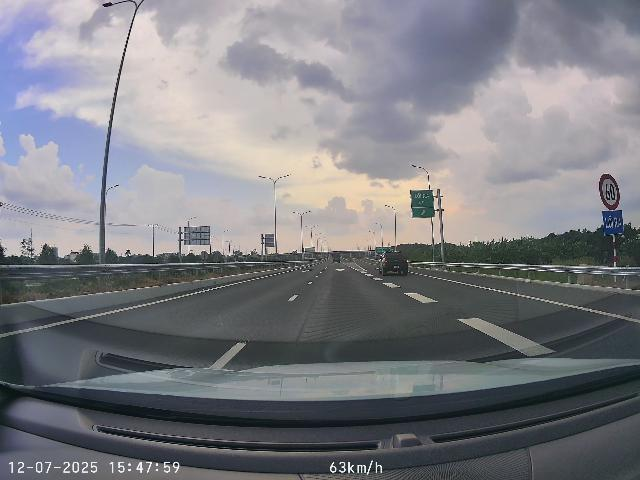127-toc-do-toi-da-60: (599, 173, 620, 210)
